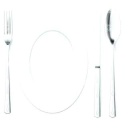fork: (1, 5, 19, 116)
